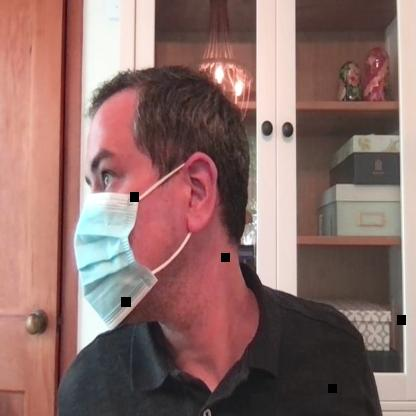mask: (73, 64, 253, 329)
